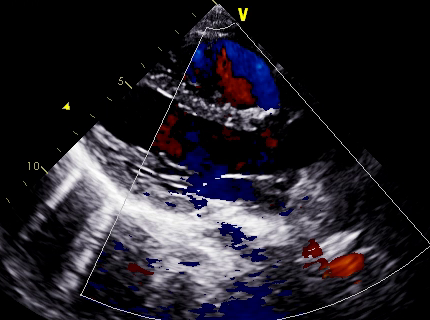AR: (171, 114, 288, 170)
